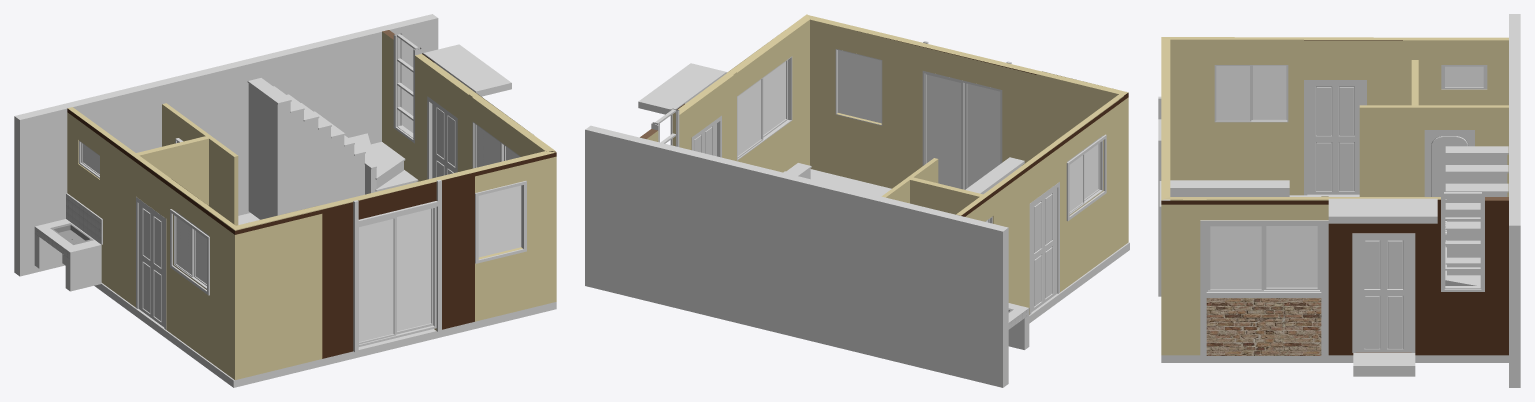
File: linnea_1stfloor.glb
3 renders of one model, left to right at view 1: azimuth 30°, elevation 25°; view 2: azimuth 150°, elevation 25°; view 3: azimuth 270°, elevation 25°, orthographic. The views are drawn at different scales.
Visible parts, largest first — view 1: Plane.001; view 2: Plane.001; view 3: Plane.001.
Part boxes in pixels (x1,y1,x2,y2): Plane.001: (14,14,556,387); Plane.001: (585,14,1129,387); Plane.001: (1158,14,1520,387).
Bounding box in the file's own units: 7.51 × 2.79 × 5.43.
23 materials, 2 textured.
